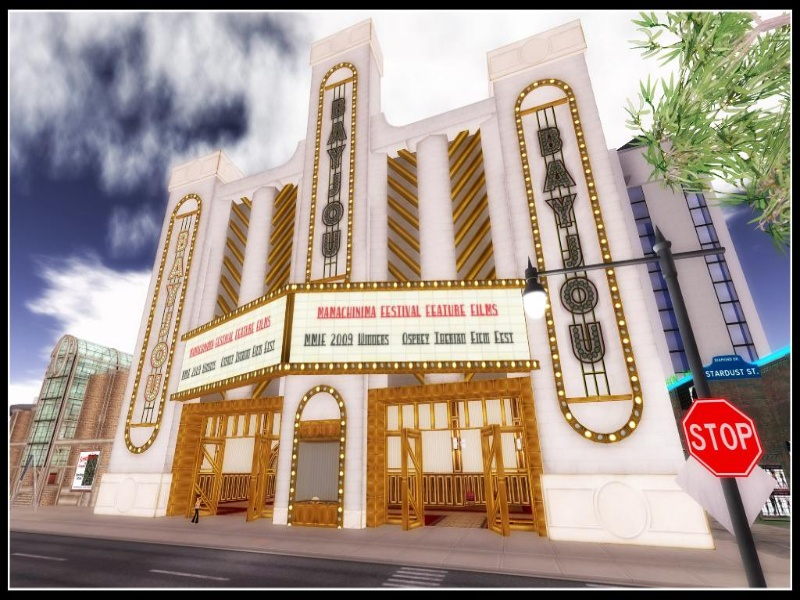stop: (679, 389, 768, 498)
